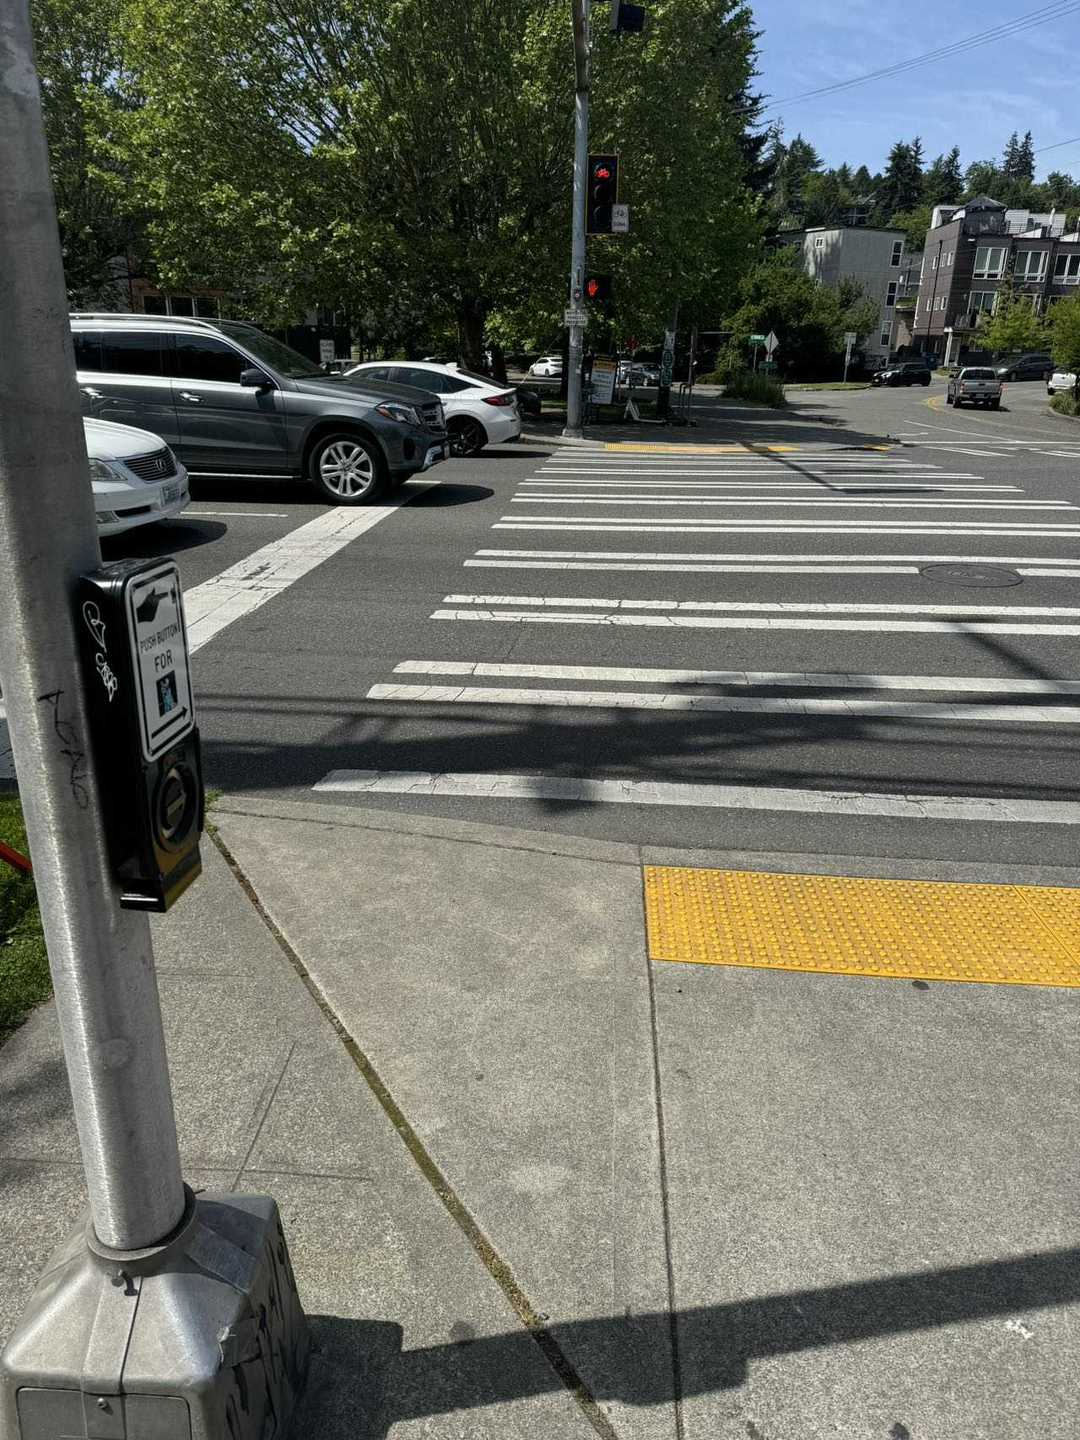ped_button: (83, 563, 217, 917)
